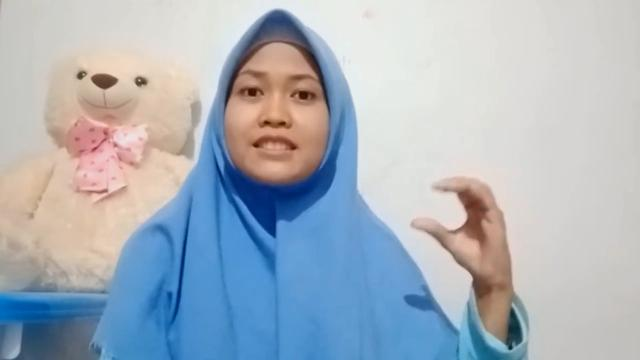C: (409, 174, 513, 286)
